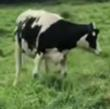cow: (14, 10, 102, 85)
